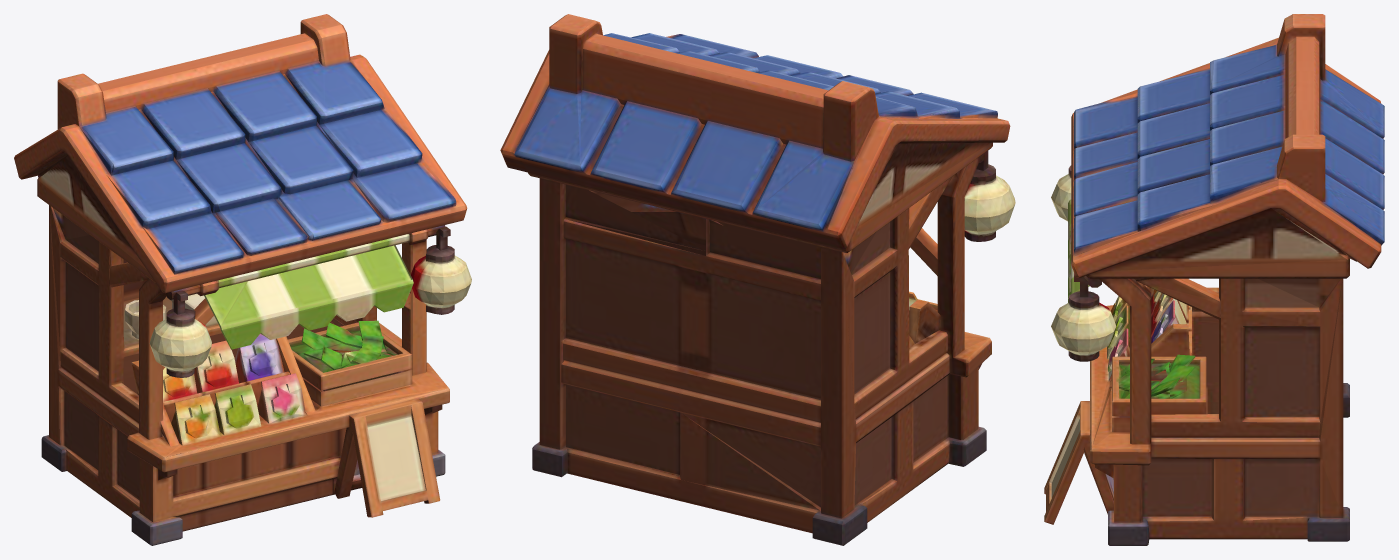
File: stall-DaLq2UpI.glb
The picture shows the model from 3 angles, left to right: view 1: azimuth 30°, elevation 25°; view 2: azimuth 150°, elevation 25°; view 3: azimuth 270°, elevation 25°; orthographic projection. The views are drawn at different scales.
Visible parts, largest first — view 1: tripo_node_45f264d4-7e00-437e-a897-1b4b454057c3; view 2: tripo_node_45f264d4-7e00-437e-a897-1b4b454057c3; view 3: tripo_node_45f264d4-7e00-437e-a897-1b4b454057c3.
Boxes of the visible parts, x1,y1,x2,y2 form: tripo_node_45f264d4-7e00-437e-a897-1b4b454057c3: (14, 14, 471, 545); tripo_node_45f264d4-7e00-437e-a897-1b4b454057c3: (500, 14, 1015, 545); tripo_node_45f264d4-7e00-437e-a897-1b4b454057c3: (1044, 14, 1384, 545).
Size of the model in its own units: 0.8259 by 0.9791 by 0.7683.
1 material, 1 textured.
